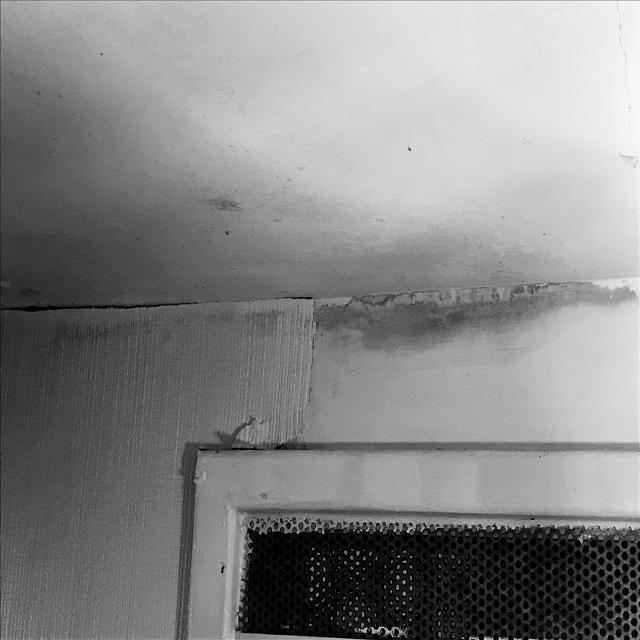pin holes: (394, 139, 423, 167), (215, 222, 240, 246), (86, 48, 110, 61)
stain marks: (0, 0, 636, 439)
